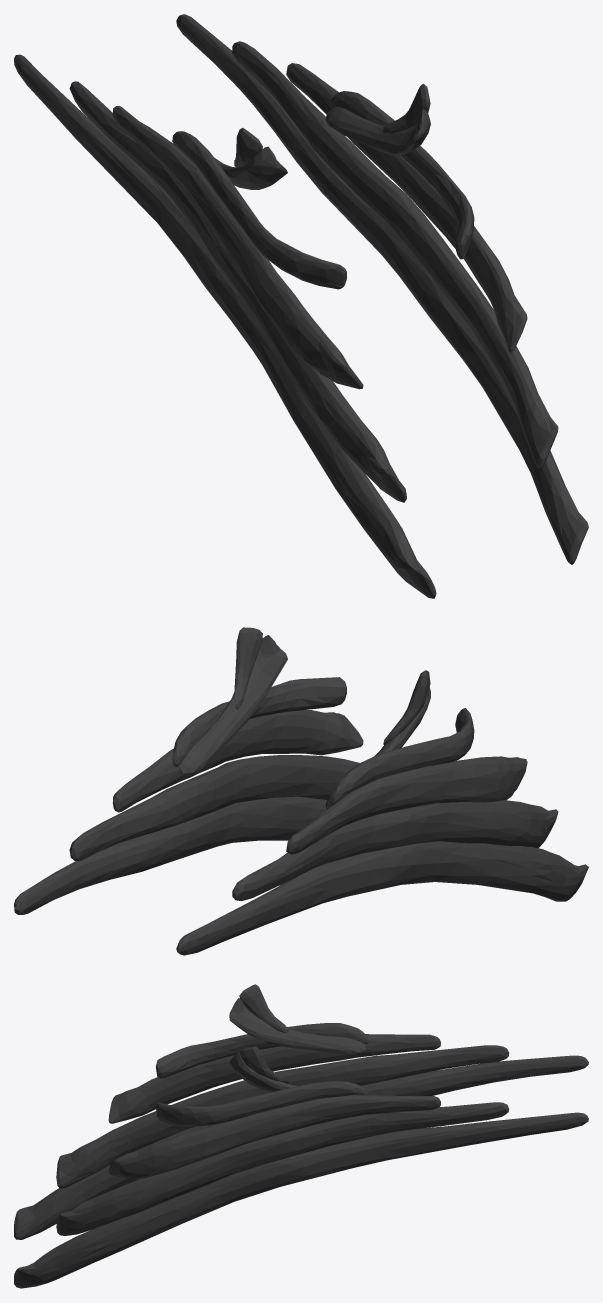
Rendered from m_longissimus_cervicis.glb.
3 renders of one model, top to bottom at view 1: azimuth 30°, elevation 25°; view 2: azimuth 150°, elevation 25°; view 3: azimuth 270°, elevation 25°, orthographic. The views are drawn at different scales.
Parts seen in each view (by area): view 1: m_longissimus_cervicis; view 2: m_longissimus_cervicis; view 3: m_longissimus_cervicis.
Boxes of the visible parts, x1=… form: m_longissimus_cervicis: x1=14, y1=14, x2=588, y2=598; m_longissimus_cervicis: x1=14, y1=627, x2=588, y2=955; m_longissimus_cervicis: x1=14, y1=984, x2=588, y2=1288.
Size of the model in its own units: 0.00156 by 0.00245 by 0.00513.
1 material, 1 textured.
